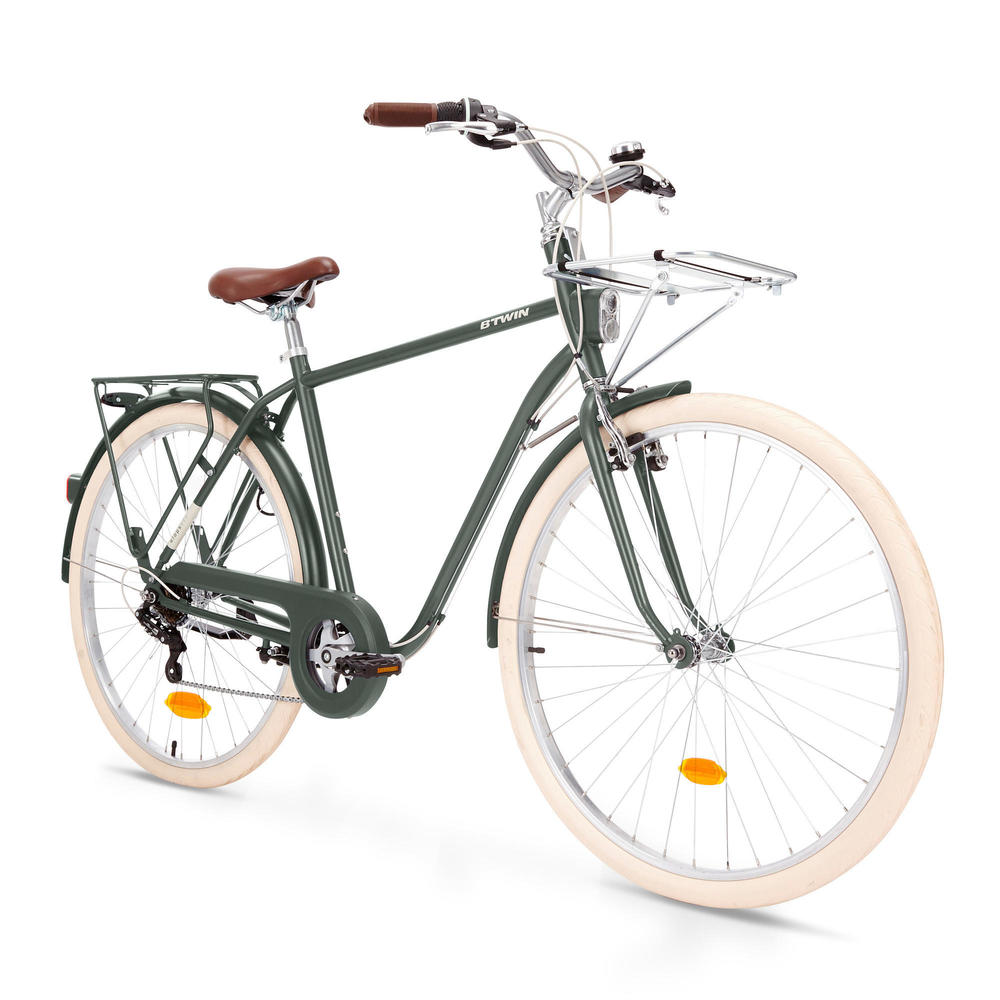UrbanBike: (72, 106, 953, 914)
